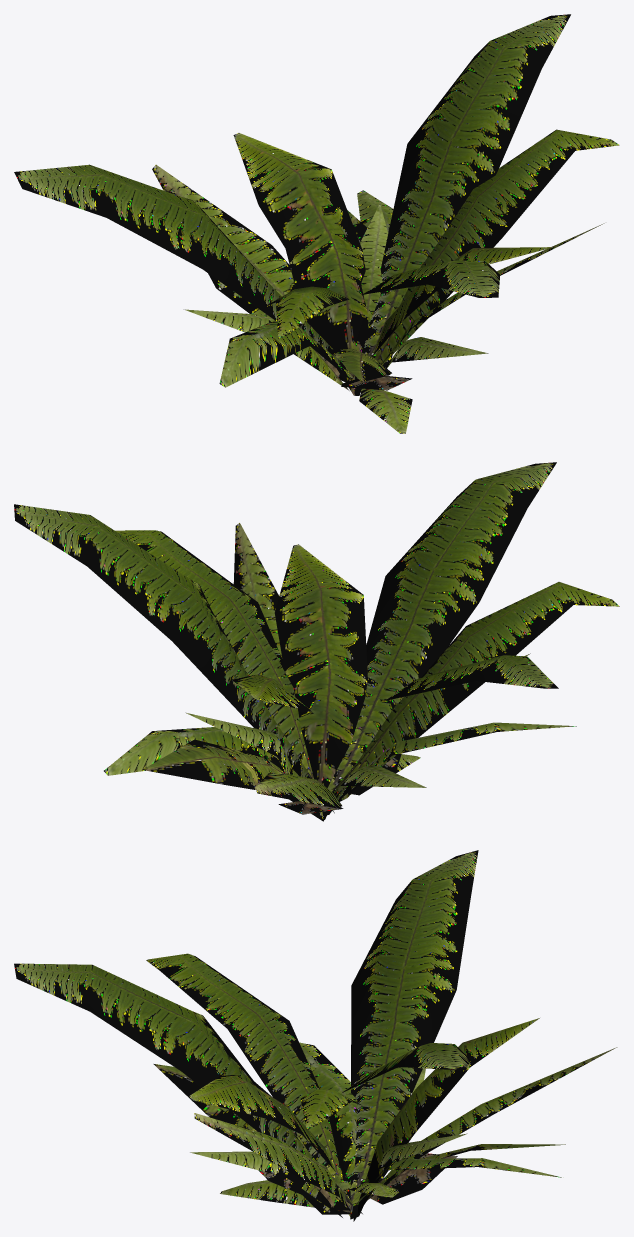
Rendered from fern_zvanstone_baked.glb.
3 views of the same model, one above another, from view 1: azimuth 30°, elevation 25°; view 2: azimuth 150°, elevation 25°; view 3: azimuth 270°, elevation 25° (orthographic). The views are drawn at different scales.
Visible parts, largest first — view 1: geometry_0; view 2: geometry_0; view 3: geometry_0.
Part boxes in pixels (x1,y1,x2,y2): geometry_0: (14, 14, 619, 433); geometry_0: (14, 462, 619, 821); geometry_0: (14, 850, 617, 1221).
Bounding box in the file's own units: 1.35 × 0.6734 × 1.34.
Materials: 1 (1 with a texture image).
